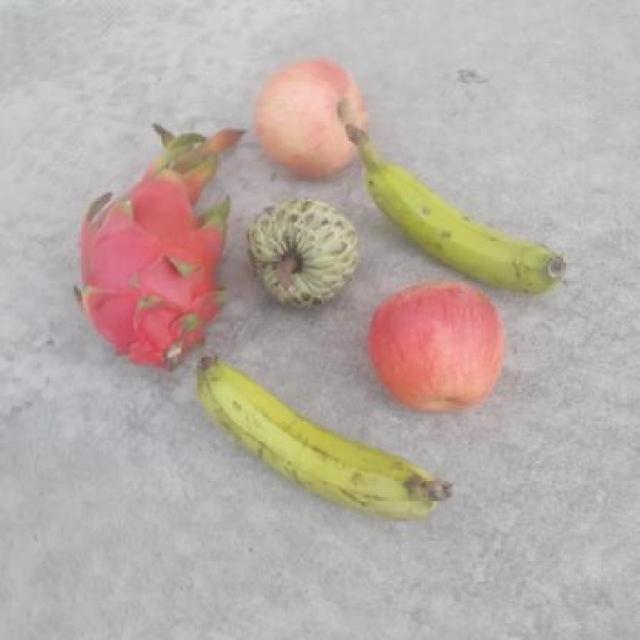apple: (367, 278, 505, 412), (251, 55, 372, 183)
banana: (195, 352, 456, 520), (344, 123, 568, 294)
dragon fruit: (70, 174, 232, 374)
sugar apple: (244, 196, 361, 310)
